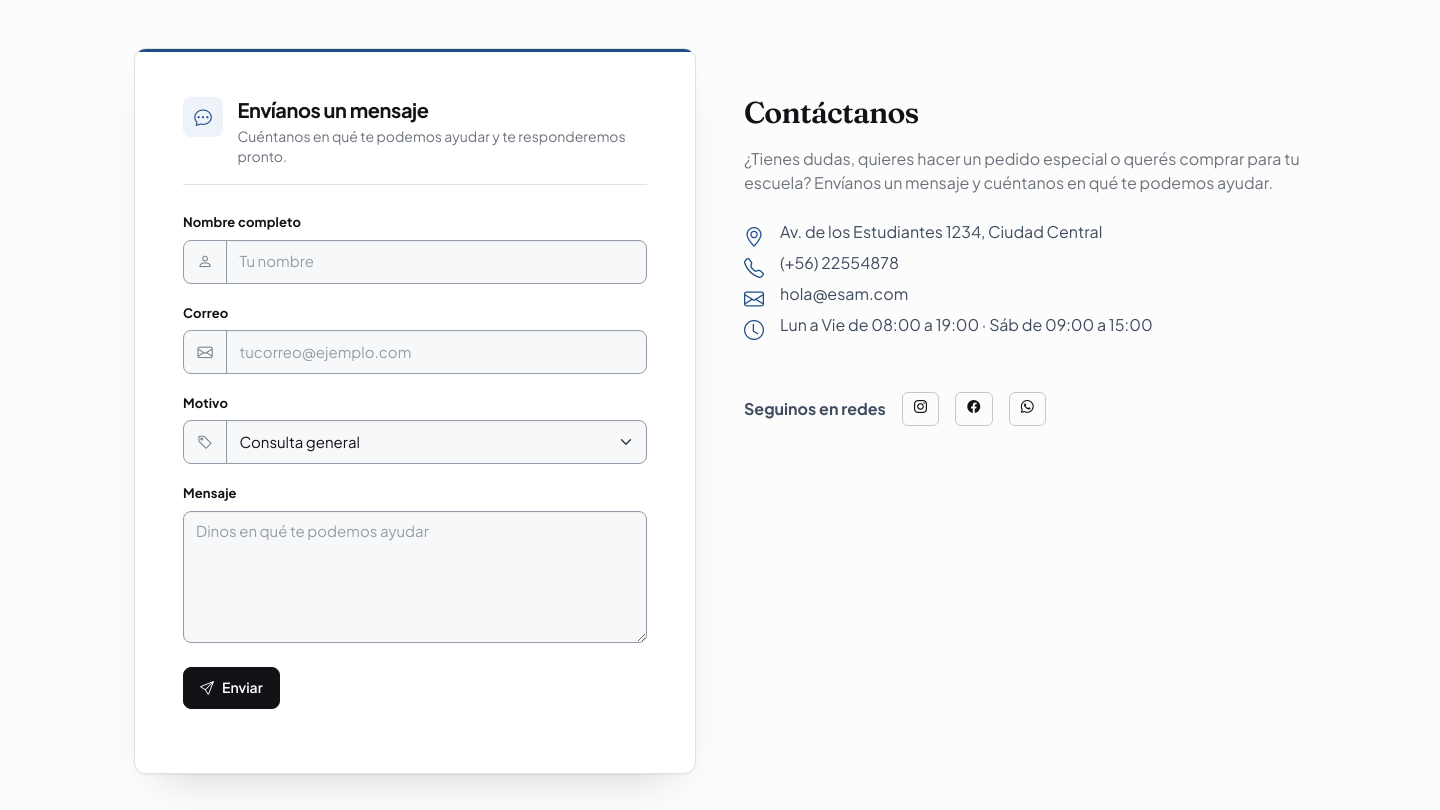
Scenario: Contact › Envía el mensaje y muestra la alerta de éxito con el formulario limpio
The width and height of the screenshot is (1440, 810).
Type "Ana" into the field labelled "Nombre completo" at (437, 262), box [226,240,647,284]
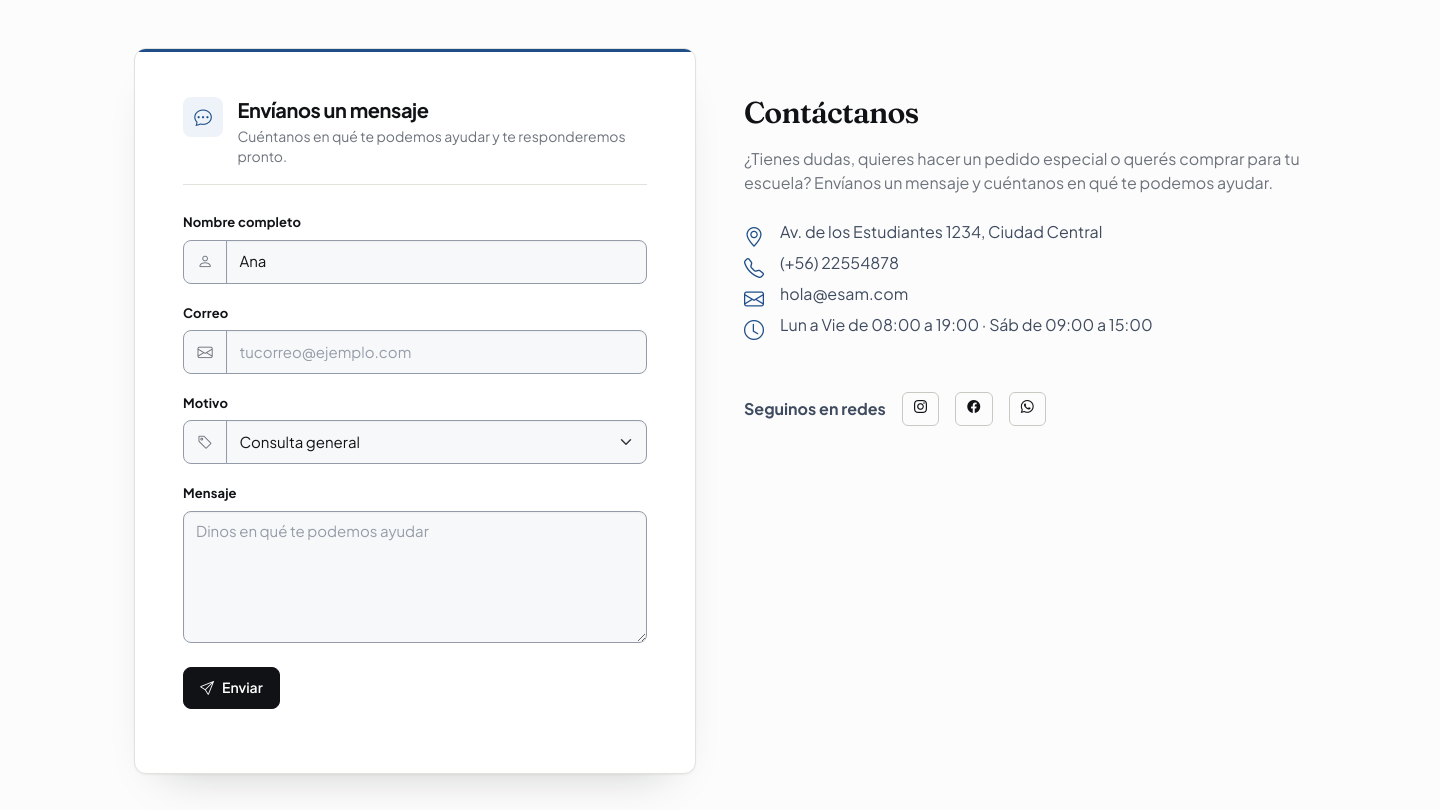
Type "ana@duoc.cl" into the field labelled "Correo" at (437, 352), box [226,330,647,374]
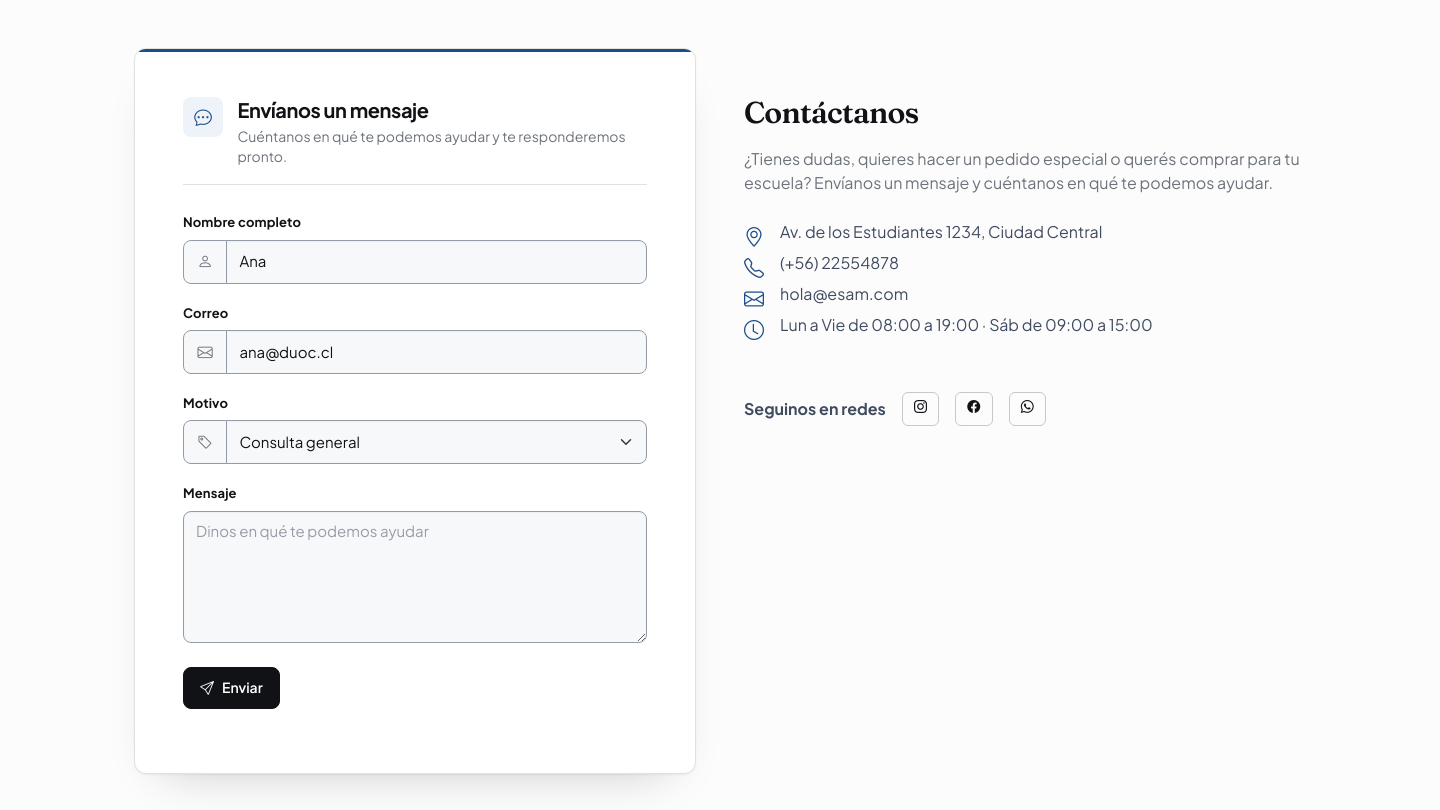
Type "Hola" into the text box labelled "Mensaje" at (415, 577), box [183,511,647,643]
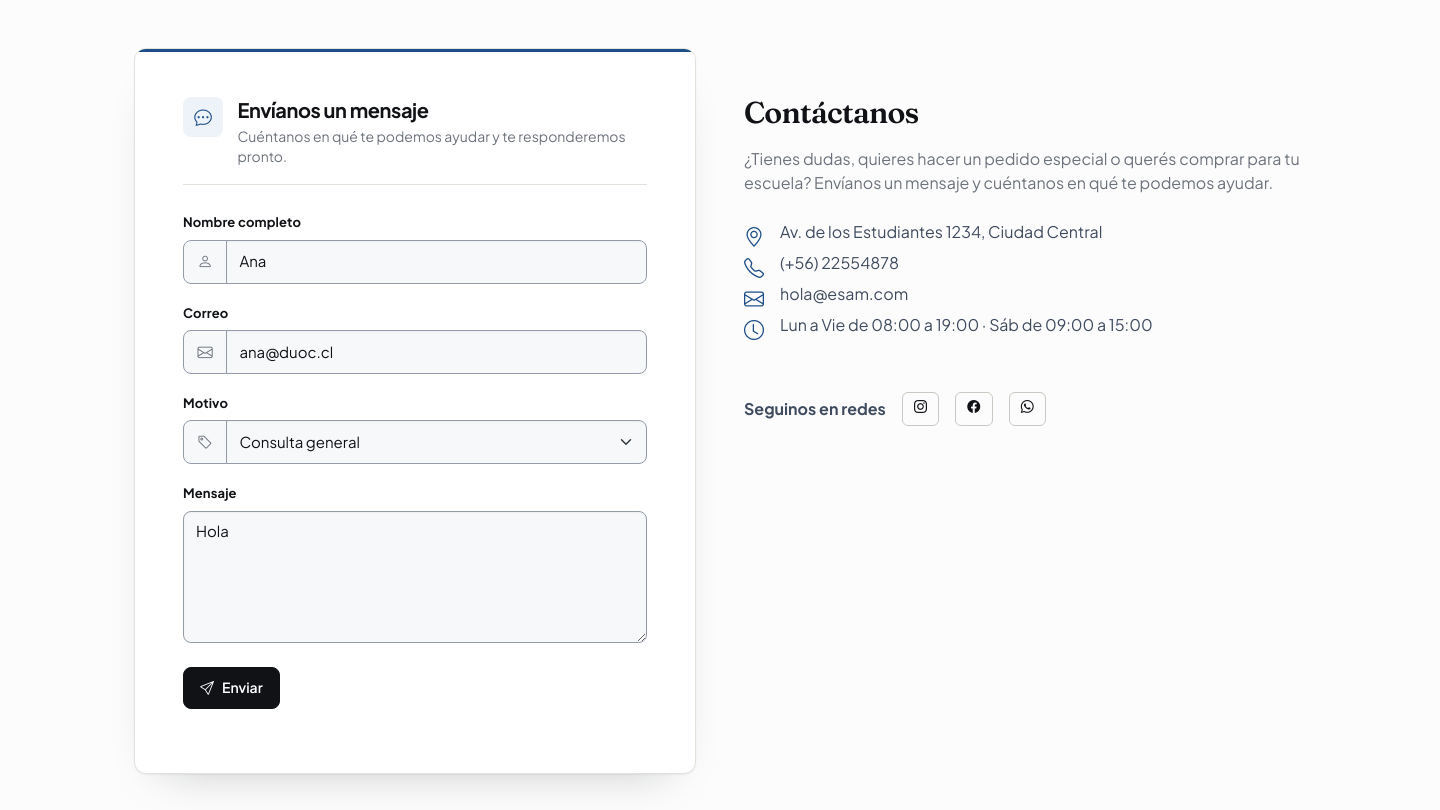
Click the button "Enviar" at (231, 688), box [183,667,280,709]
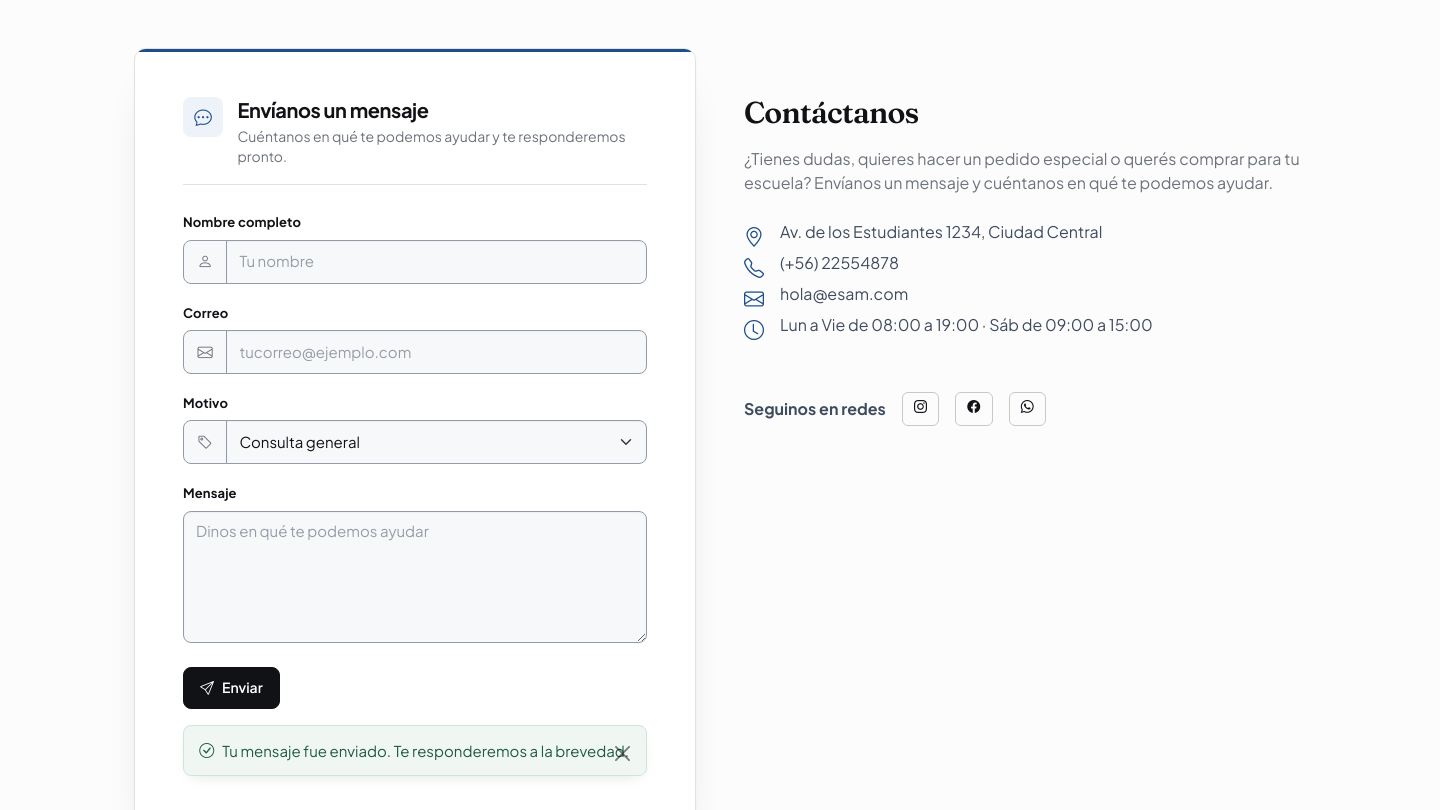
Result: the message reads "Tu mensaje fue enviado. Te responderemos a la brevedad." at [222,741,629,760]
Result: the field labelled "Nombre completo" is empty at [226,240,647,284]
Result: the text box labelled "Mensaje" is empty at [183,511,647,643]
